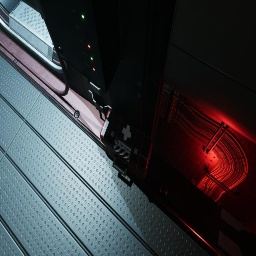FirstAidBox ,: (100, 110, 152, 180)
